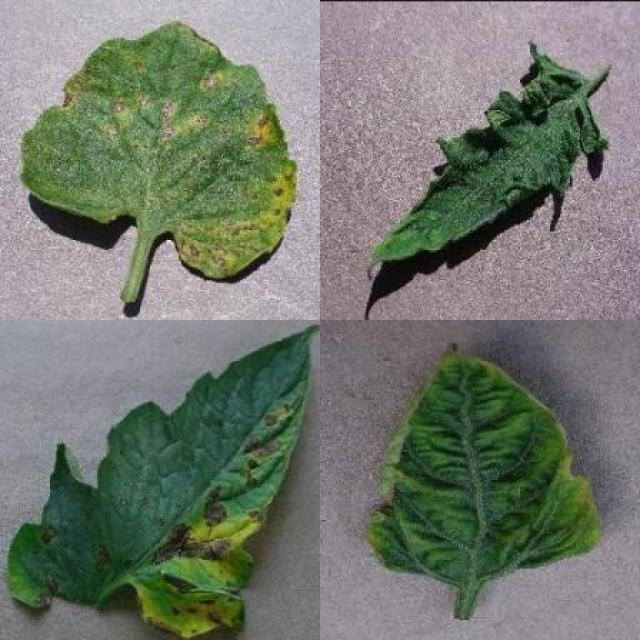Early Blight: (9, 324, 320, 640)
Mosaic Virus: (364, 40, 610, 277)
Septoria: (23, 22, 298, 282)
Yellow Leaf Curl Virus: (367, 342, 602, 584)
